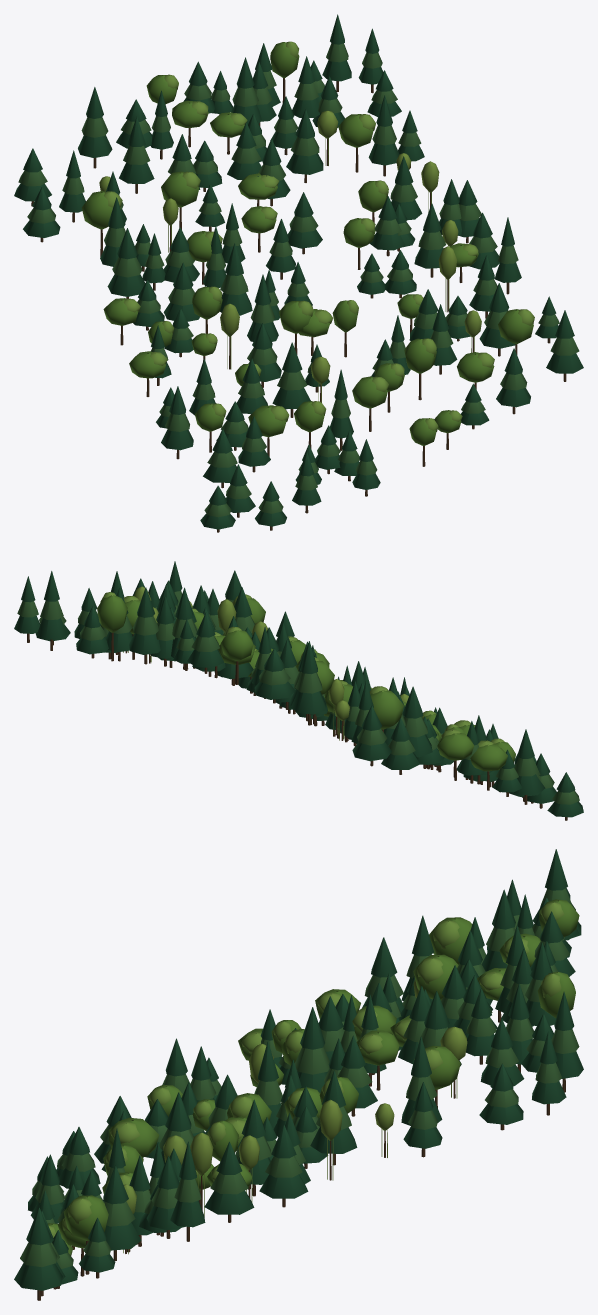
File: forest_6_4.dae
3 views of the same model, one above another, from view 1: azimuth 30°, elevation 25°; view 2: azimuth 150°, elevation 25°; view 3: azimuth 270°, elevation 25° (orthographic). The views are drawn at different scales.
Visible parts, largest first — view 1: forest_6_4; view 2: forest_6_4; view 3: forest_6_4.
Part boxes in pixels (bbox=[...]): forest_6_4: bbox=[14, 14, 583, 532]; forest_6_4: bbox=[14, 561, 583, 820]; forest_6_4: bbox=[14, 849, 583, 1300].
Bounding box in the file's own units: 134 × 135 × 104.
